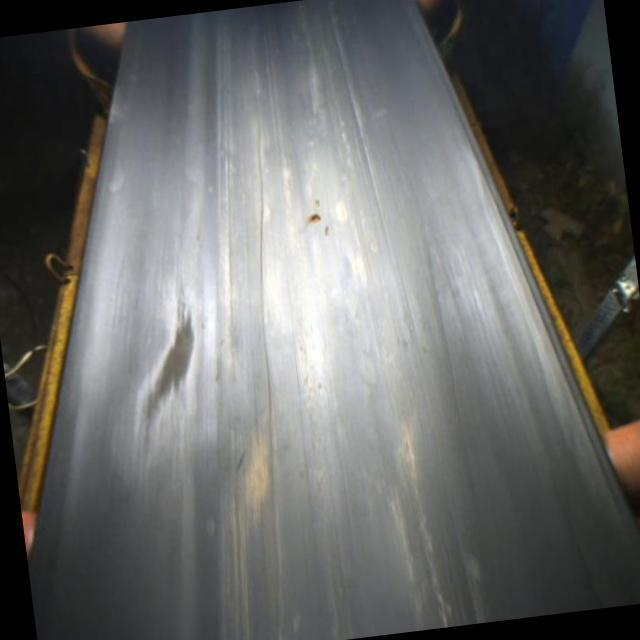Hole: (303, 208, 324, 228)
Tear: (251, 110, 282, 432)
Wear: (133, 298, 202, 436)
